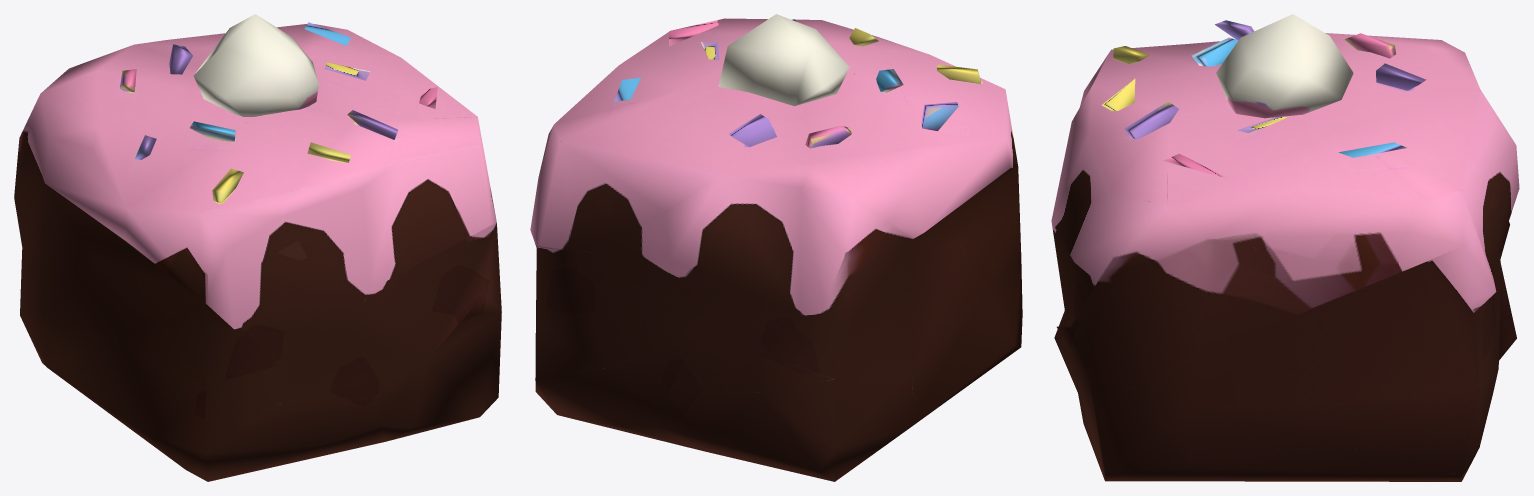
File: source.fbx
3 views of the same model, side by side, from view 1: azimuth 30°, elevation 25°; view 2: azimuth 150°, elevation 25°; view 3: azimuth 270°, elevation 25° (orthographic). The views are drawn at different scales.
Parts seen in each view (by area): view 1: Mesh_0; view 2: Mesh_0; view 3: Mesh_0.
Part boxes in pixels (left/top/right/bottom): Mesh_0: left=14, top=14, right=501, bottom=481; Mesh_0: left=530, top=14, right=1022, bottom=481; Mesh_0: left=1051, top=14, right=1519, bottom=481.
Size of the model in its own units: 18.37 by 18 by 19.23.
Materials: 1 (1 with a texture image).
